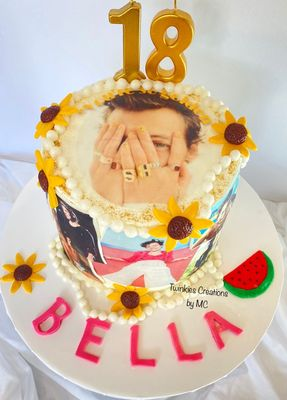sushi: (0, 70, 286, 397), (31, 71, 266, 332)
